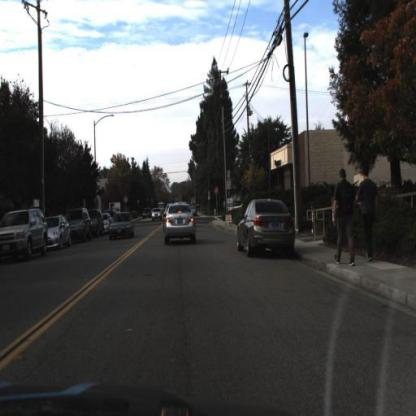car: (237, 197, 299, 257), (1, 207, 51, 261), (163, 199, 197, 245), (46, 214, 73, 250), (68, 206, 92, 240), (71, 209, 93, 246), (108, 213, 135, 238)
pedestrian: (333, 169, 358, 270), (356, 167, 380, 264)
